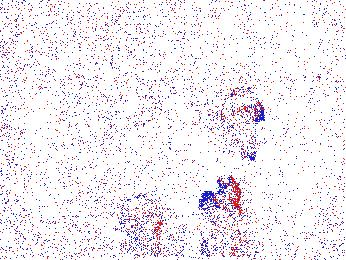flame jellyfish: (219, 91, 266, 161), (199, 176, 244, 229), (117, 196, 162, 239)
